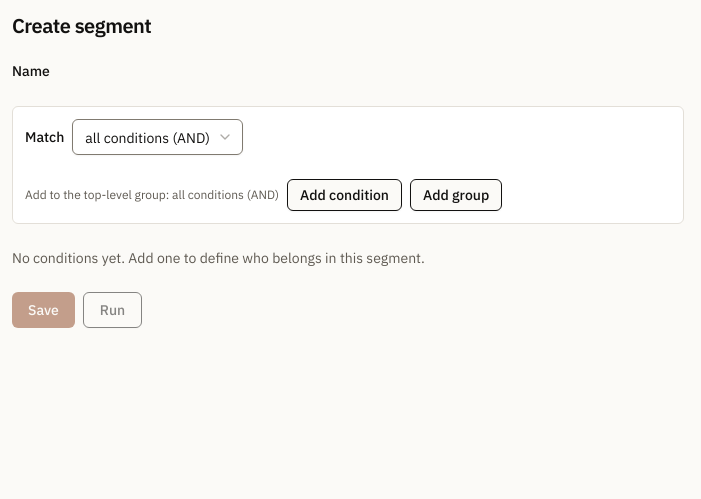
Test: SegmentBuilder -- live counts › does not auto-preview a condition that has not been filled in
Check: the element with test id "group-" is shown, box x1=12 y1=106 x2=684 y2=224
Step 1. Click the button "Add condition" → (344, 195), box x1=287 y1=179 x2=402 y2=211
Wait 2400 ms
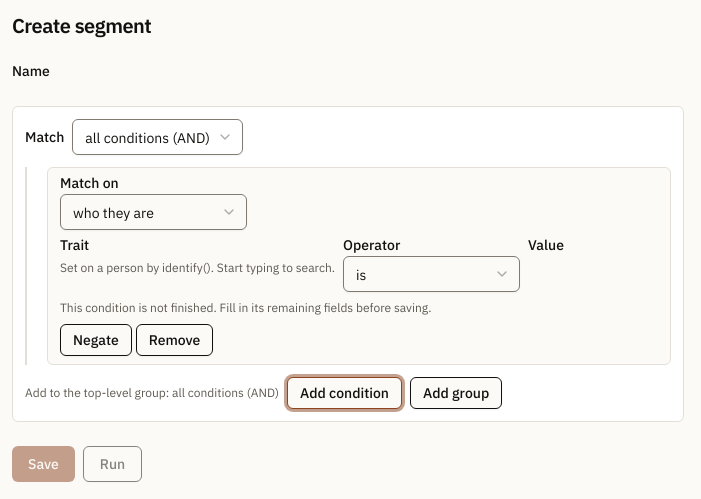
Check: the text "not finished" is shown, box x1=60 y1=300 x2=432 y2=315
